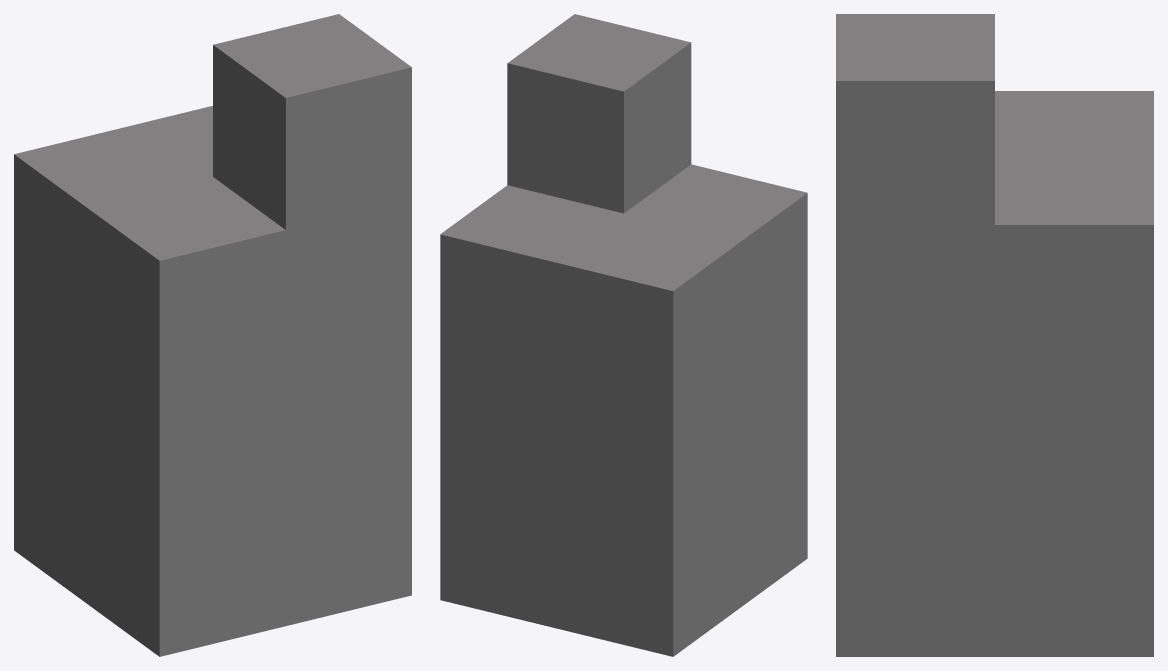
The model's file is kitten__leg_fl.glb.
3 views of the same model, side by side, from view 1: azimuth 30°, elevation 25°; view 2: azimuth 150°, elevation 25°; view 3: azimuth 270°, elevation 25° (orthographic). The views are drawn at different scales.
Parts seen in each view (by area): view 1: kitten__leg_fl; view 2: kitten__leg_fl; view 3: kitten__leg_fl.
Boxes of the visible parts, left/top/right/bottom form: kitten__leg_fl: left=14, top=14, right=411, bottom=656; kitten__leg_fl: left=440, top=14, right=807, bottom=656; kitten__leg_fl: left=836, top=14, right=1153, bottom=656.
Size of the model in its own units: 0.2 by 0.4 by 0.2.
1 material, 1 textured.
